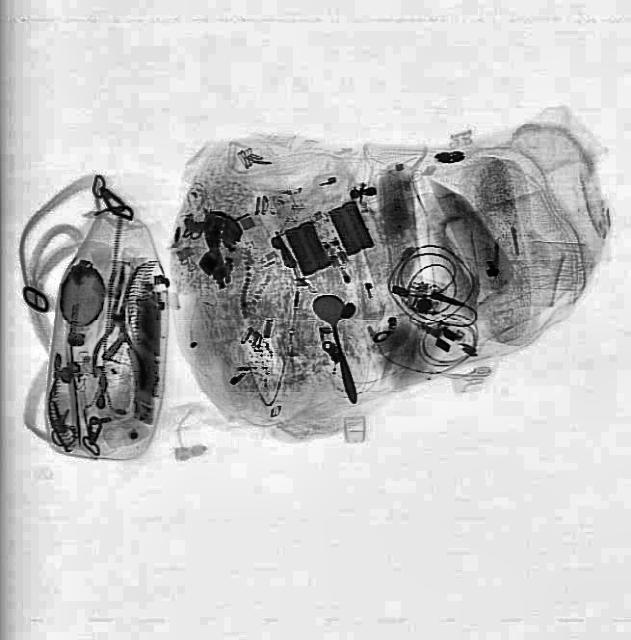Pliers: (86, 259, 160, 391)
